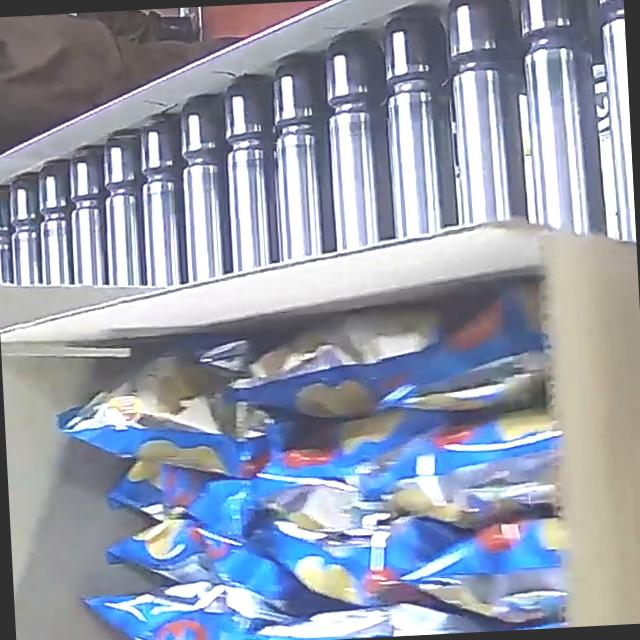paprika: (47, 284, 573, 640)
